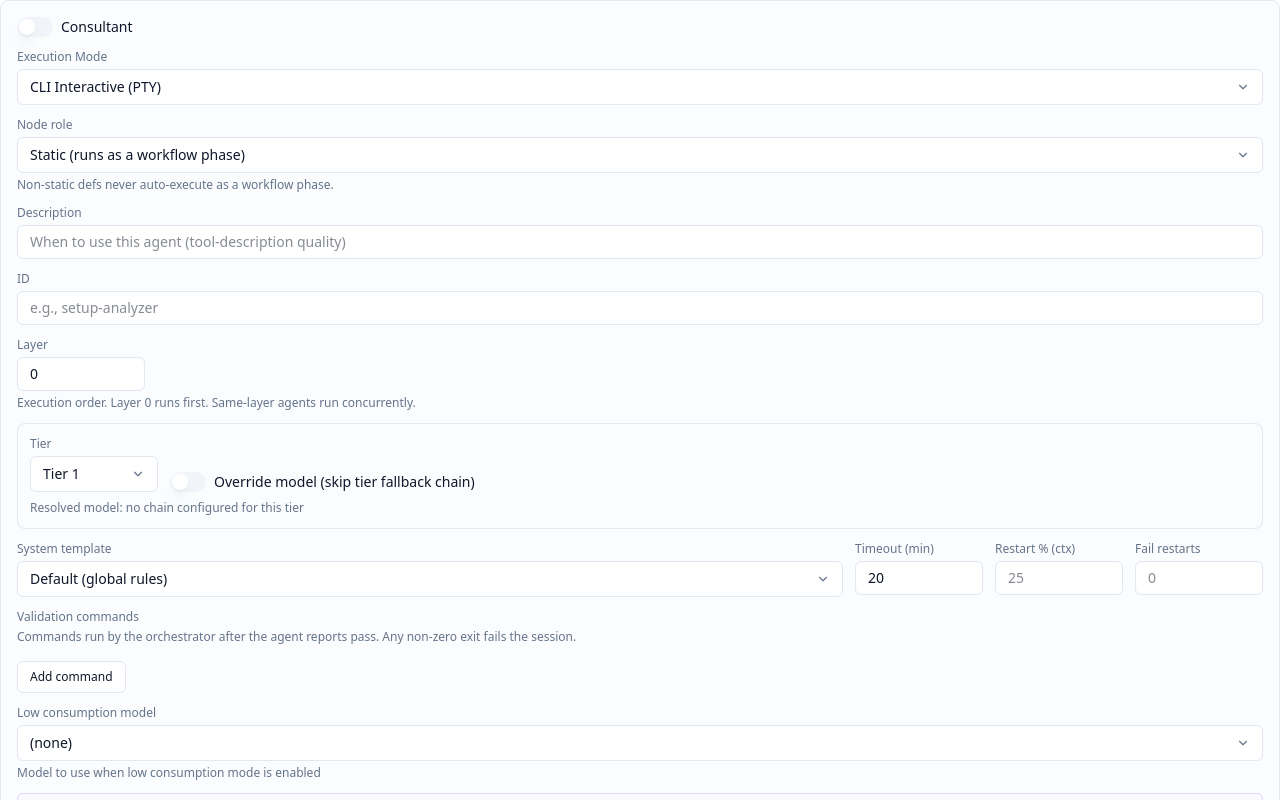
Test: AgentDefForm — cli_interactive execution mode › field visibility after selecting cli_interactive › keeps Model label visible when override is toggled on
What coordinates should you click on to do the following:
click the button "CLI Interactive (PTY)"
I would click on:
 (95, 86)
Its box is [17,69,1263,105].
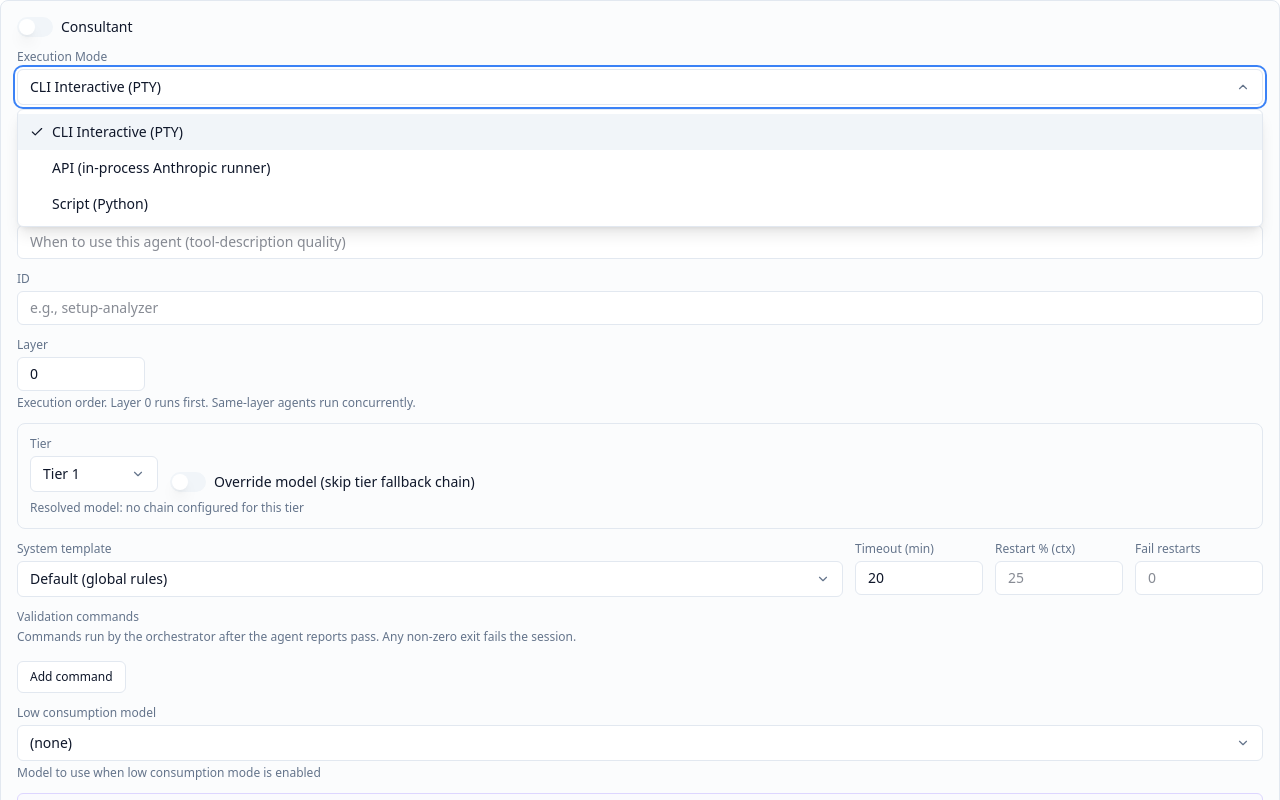
What coordinates should you click on to do the following:
click the 2nd text "CLI Interactive (PTY)"
I would click on:
 (117, 132)
Its box is [52,122,183,142].
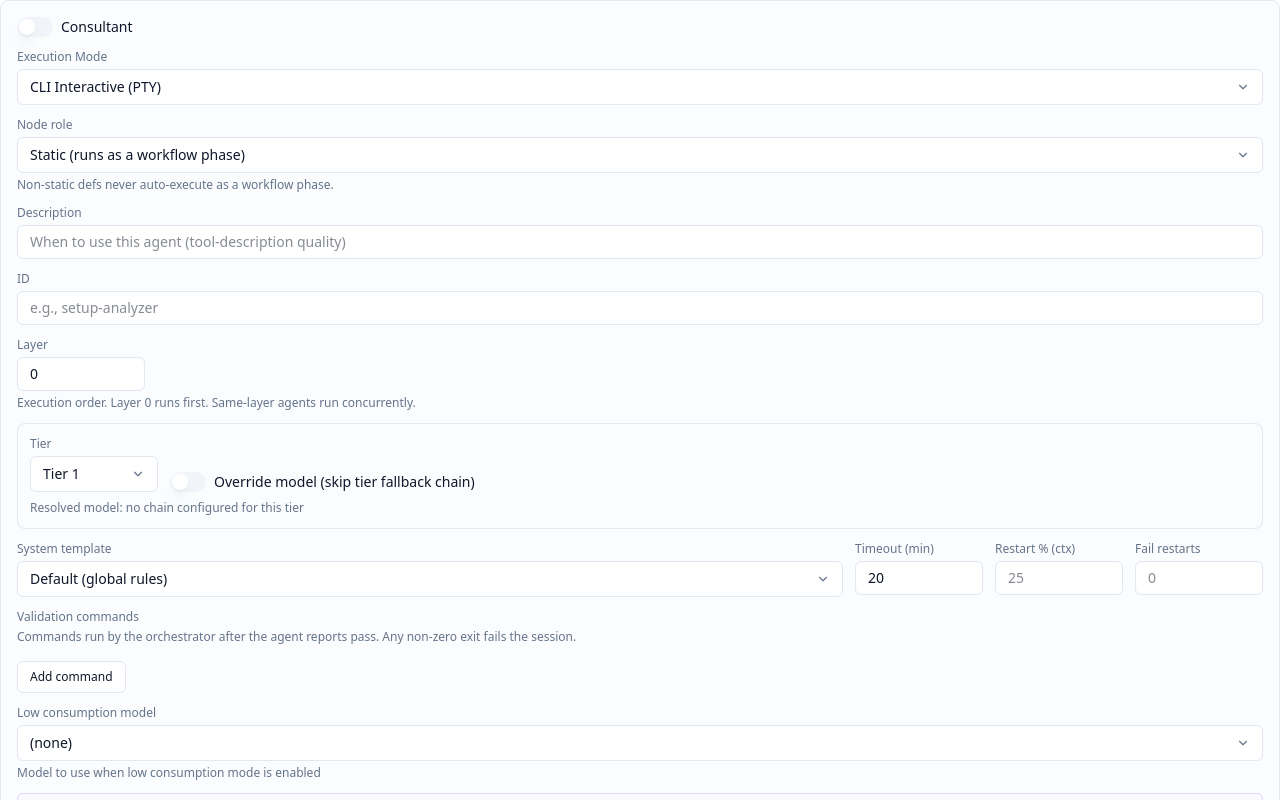
What coordinates should you click on to do the following:
click the 2nd switch named "override model"
I would click on:
 (188, 482)
Its box is [170,472,206,492].
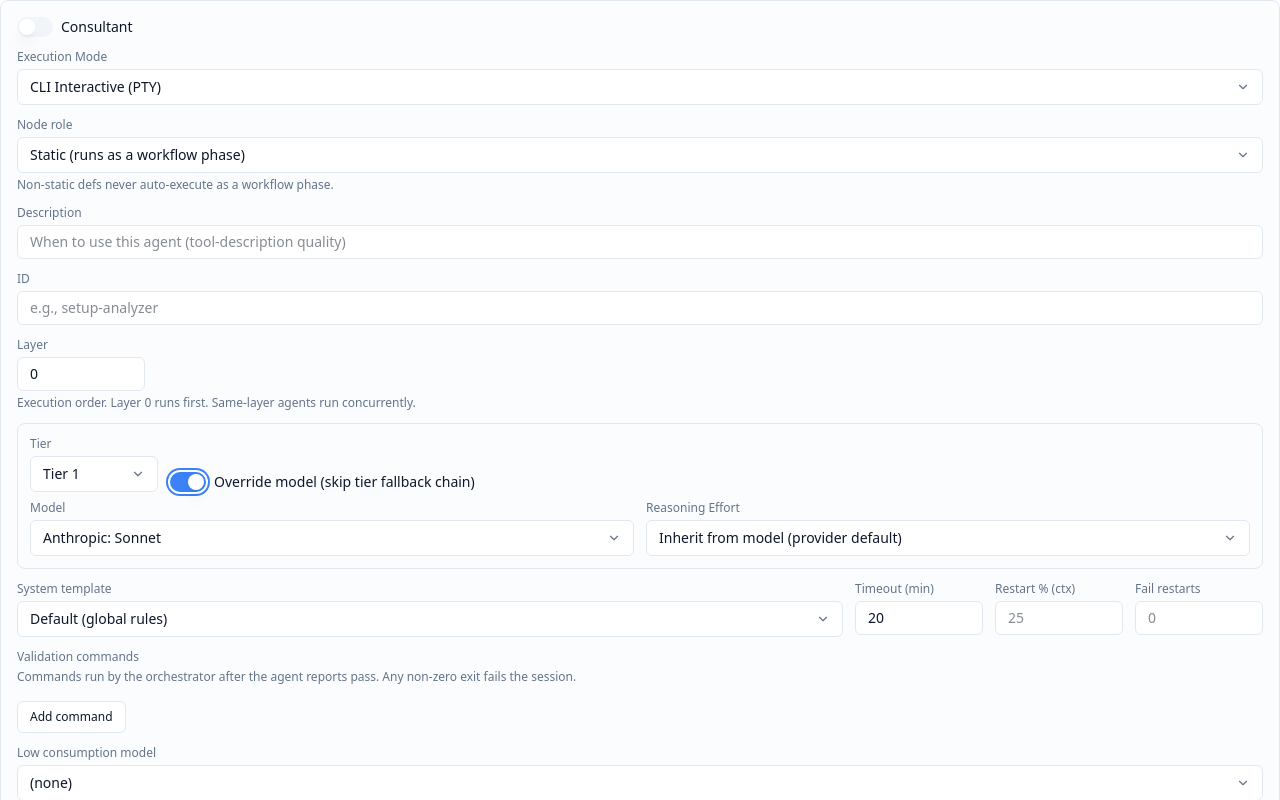
expect the text "Model" is shown: met, box [30,499,65,516]
